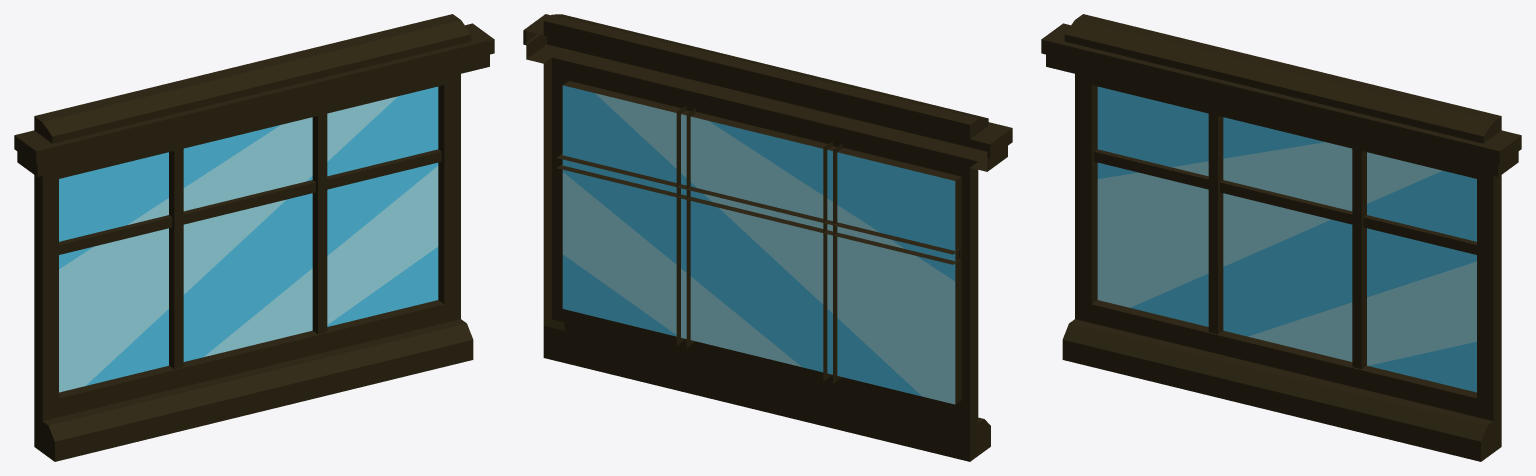
File: Prop_BuildingWindow_08.fbx
The picture shows the model from 3 angles, left to right: view 1: azimuth 30°, elevation 25°; view 2: azimuth 150°, elevation 25°; view 3: azimuth 330°, elevation 25°; orthographic projection.
Parts seen in each view (by area): view 1: Prop_BuildingWindow_08; view 2: Prop_BuildingWindow_08; view 3: Prop_BuildingWindow_08.
Boxes of the visible parts, bbox=[...] form: Prop_BuildingWindow_08: bbox=[14, 14, 494, 461]; Prop_BuildingWindow_08: bbox=[523, 14, 1012, 461]; Prop_BuildingWindow_08: bbox=[1041, 14, 1521, 461].
Size of the model in its own units: 271 by 187 by 24.49.
